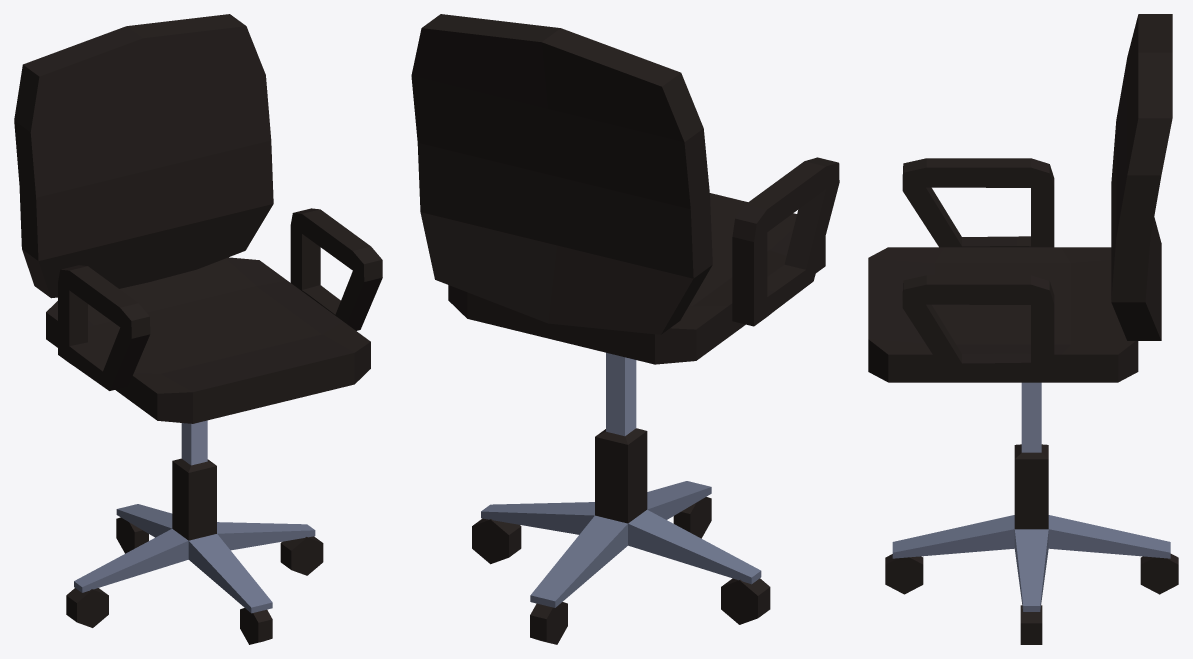
File: OfficeChair.fbx
3 views of the same model, side by side, from view 1: azimuth 30°, elevation 25°; view 2: azimuth 150°, elevation 25°; view 3: azimuth 270°, elevation 25° (orthographic). The views are drawn at different scales.
Parts seen in each view (by area): view 1: Cube; view 2: Cube; view 3: Cube.
Boxes of the visible parts, <box> form: Cube: <box>14,14,382,644</box>; Cube: <box>411,14,839,644</box>; Cube: <box>868,14,1178,644</box>.
Bounding box in the file's own units: 49.06 × 97.43 × 50.9.
